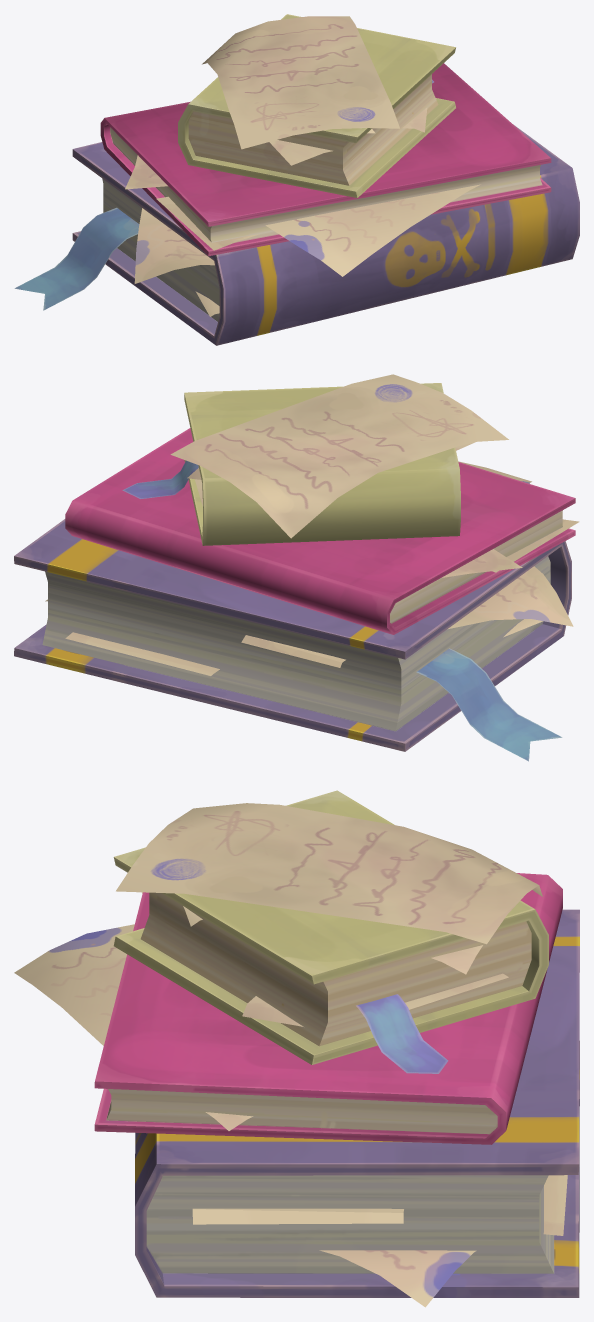
Rendered from book.fbx.
The picture shows the model from 3 angles, top to bottom: view 1: azimuth 30°, elevation 25°; view 2: azimuth 150°, elevation 25°; view 3: azimuth 270°, elevation 25°; orthographic projection. The views are drawn at different scales.
Visible parts, largest first — view 1: big book, pink book, green book, list; view 2: big book, pink book, list, green book; view 3: big book, pink book, green book, list.
Boxes of the visible parts, left/top/right/bottom form: big book: left=14, top=125, right=579, bottom=345; pink book: left=100, top=63, right=551, bottom=276; green book: left=178, top=14, right=455, bottom=197; list: left=202, top=16, right=399, bottom=149; big book: left=14, top=519, right=573, bottom=761; pink book: left=65, top=428, right=579, bottom=634; list: left=170, top=374, right=508, bottom=538; green book: left=122, top=383, right=474, bottom=545; big book: left=135, top=909, right=579, bottom=1307; pink book: left=14, top=873, right=562, bottom=1144; green book: left=113, top=790, right=548, bottom=1073; list: left=116, top=803, right=542, bottom=944.
Size of the model in its own units: 648 by 264 by 464.
